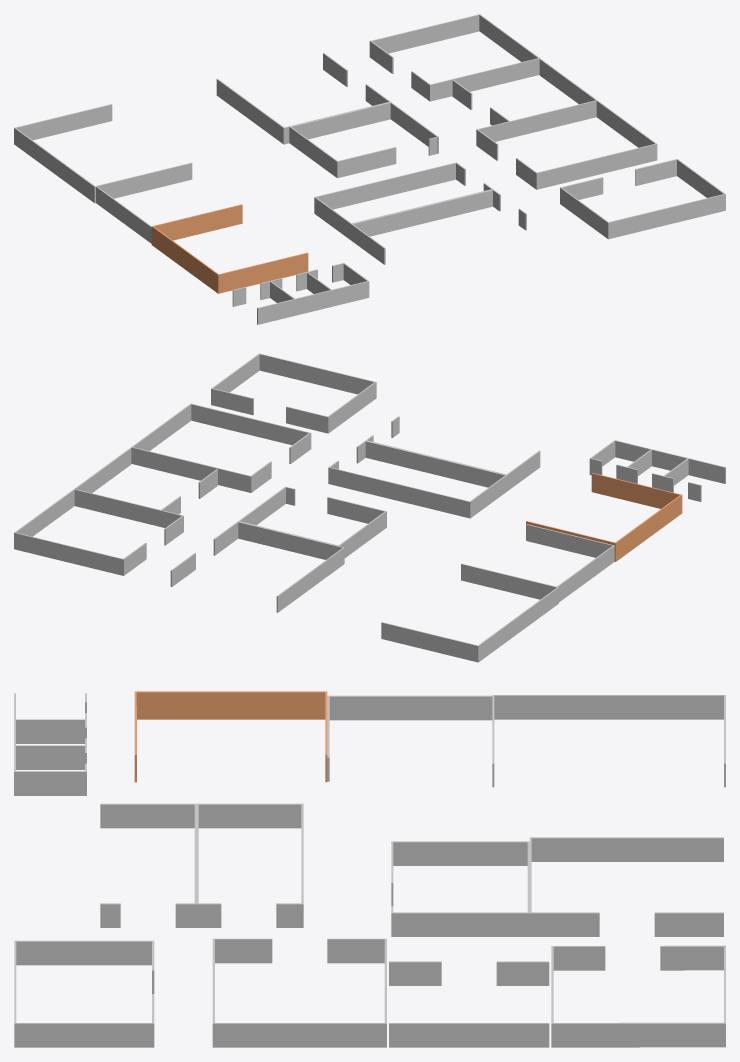
Rendered from Inner_Wall.fbx.
The picture shows the model from 3 angles, top to bottom: view 1: azimuth 30°, elevation 25°; view 2: azimuth 150°, elevation 25°; view 3: azimuth 270°, elevation 25°; orthographic projection. The views are drawn at different scales.
Visible parts, largest first — view 1: wall.008, wall.001, wall.031, wall.004, wall.014, wall.017, wall.023, wall.010, wall.019, wall.002, wall.049, wall.007 (+11 smaller); view 2: wall.008, wall.001, wall.031, wall.004, wall.017, wall.016, wall.019, wall.010, wall.002, wall.021, wall.007, wall.049 (+12 smaller); view 3: wall.019, wall.002, wall.007, wall.013, wall.028, wall.030, wall.048, wall.056, wall.009, wall.011, wall.029, wall.024 (+6 smaller).
Part boxes in pixels (bbox=[...]): wall.008: bbox=[476, 100, 657, 189]; wall.001: bbox=[371, 14, 538, 101]; wall.031: bbox=[15, 104, 192, 198]; wall.004: bbox=[232, 263, 369, 324]; wall.014: bbox=[291, 102, 437, 177]; wall.017: bbox=[315, 162, 455, 209]; wall.023: bbox=[352, 190, 492, 236]; wall.010: bbox=[609, 194, 724, 238]; wall.019: bbox=[216, 53, 390, 143]; wall.002: bbox=[369, 14, 540, 101]; wall.049: bbox=[218, 252, 308, 293]; wall.007: bbox=[477, 100, 656, 188]; wall.008: bbox=[131, 403, 311, 492]; wall.001: bbox=[15, 489, 182, 575]; wall.031: bbox=[381, 563, 556, 661]; wall.004: bbox=[589, 440, 725, 501]; wall.017: bbox=[329, 467, 469, 517]; wall.016: bbox=[365, 441, 505, 487]; wall.019: bbox=[170, 522, 343, 612]; wall.010: bbox=[259, 353, 374, 394]; wall.002: bbox=[14, 489, 183, 575]; wall.021: bbox=[237, 521, 344, 563]; wall.007: bbox=[132, 404, 310, 492]; wall.049: bbox=[591, 473, 680, 508]; wall.019: bbox=[531, 837, 723, 936]; wall.002: bbox=[551, 945, 725, 1047]; wall.007: bbox=[215, 938, 384, 1047]; wall.013: bbox=[391, 841, 529, 936]; wall.028: bbox=[389, 961, 549, 1047]; wall.030: bbox=[492, 695, 725, 719]; wall.048: bbox=[134, 691, 325, 719]; wall.056: bbox=[327, 695, 492, 720]; wall.009: bbox=[14, 940, 154, 965]; wall.011: bbox=[14, 1023, 154, 1047]; wall.029: bbox=[196, 803, 303, 828]; wall.024: bbox=[100, 803, 196, 828].
Size of the model in its own units: 7445 by 6778 by 286.
